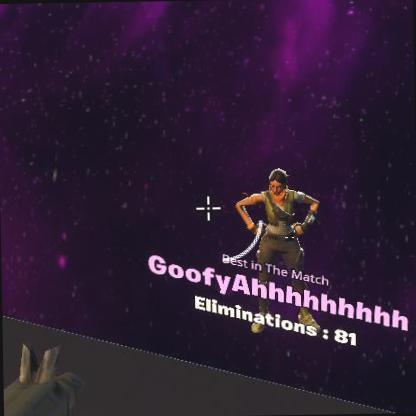person: (229, 167, 322, 272)
